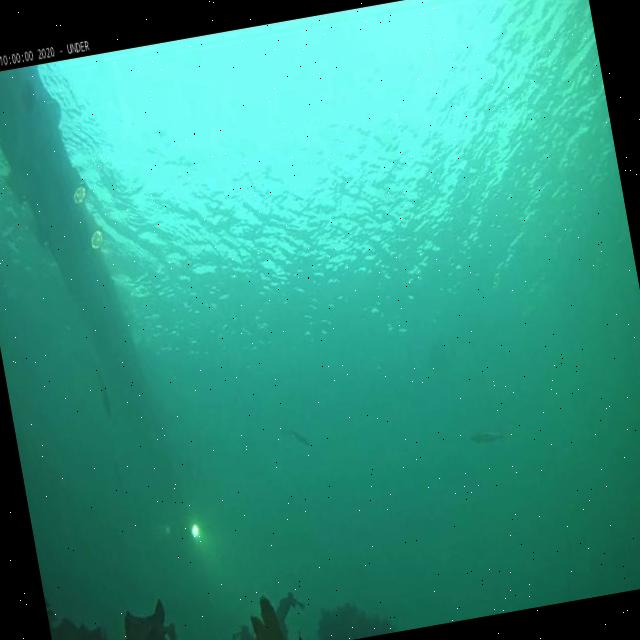fish: (464, 422, 511, 457), (96, 372, 116, 423), (284, 422, 312, 454)
